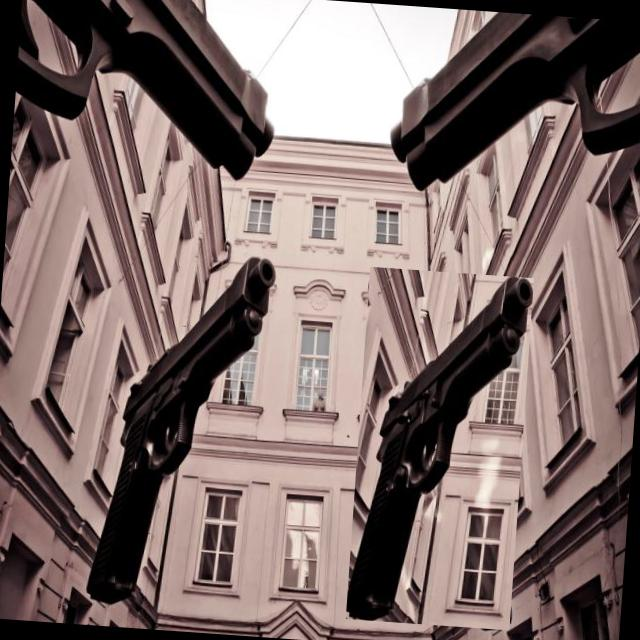Gun: (87, 256, 274, 603), (346, 277, 532, 620), (17, 0, 273, 178), (391, 12, 640, 189)
